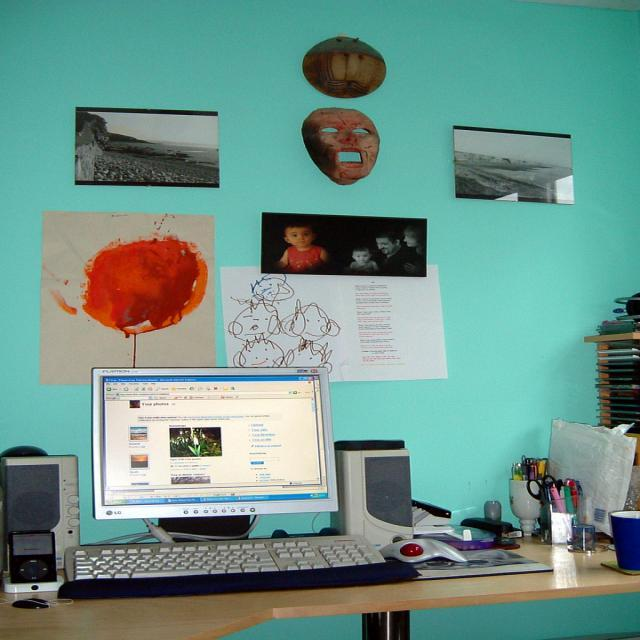others: (1, 363, 425, 611)
